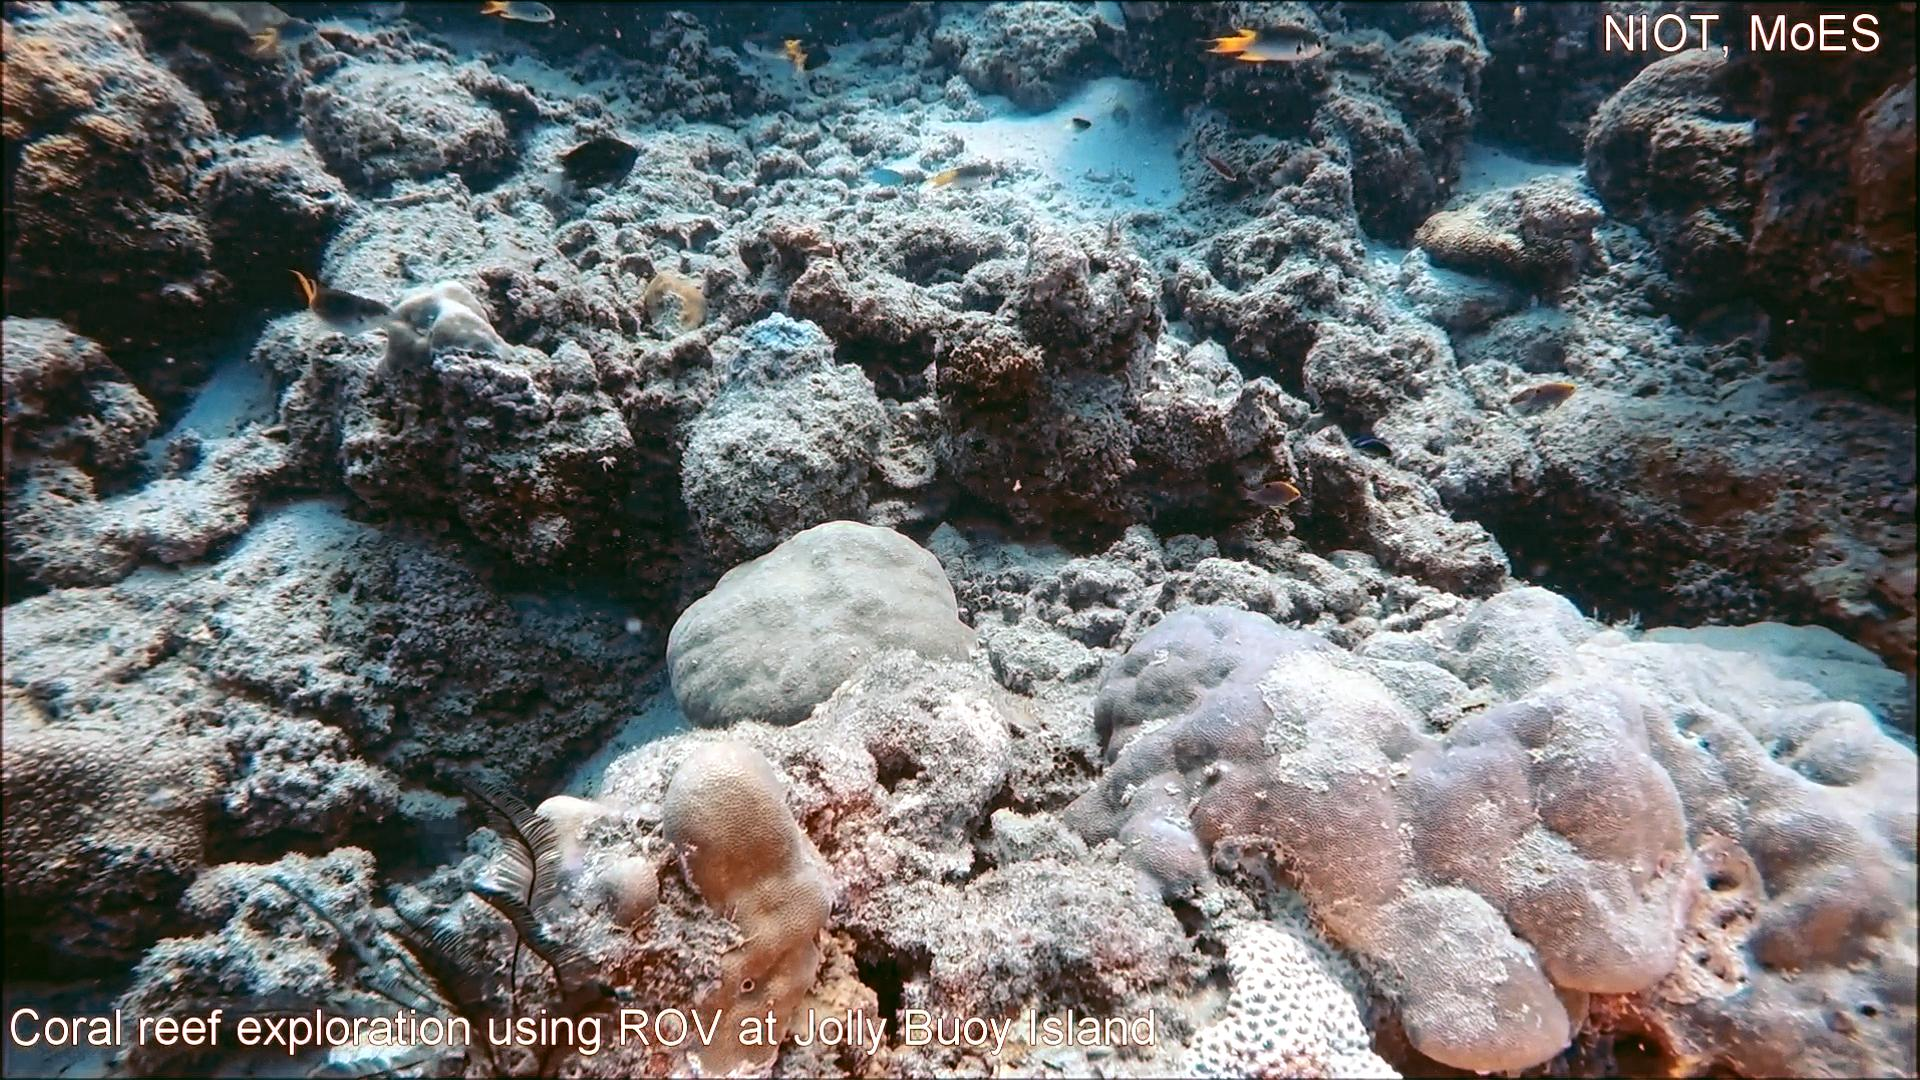Feather star-Crinoid star: (146, 765, 633, 1080)
Goniastrea-Goniastrea pectinata: (1153, 909, 1415, 1080)
Porites-Porites pukoensis: (1536, 576, 1920, 1080)
Turbinaria-Turbinaria stellulata: (0, 716, 229, 909)
